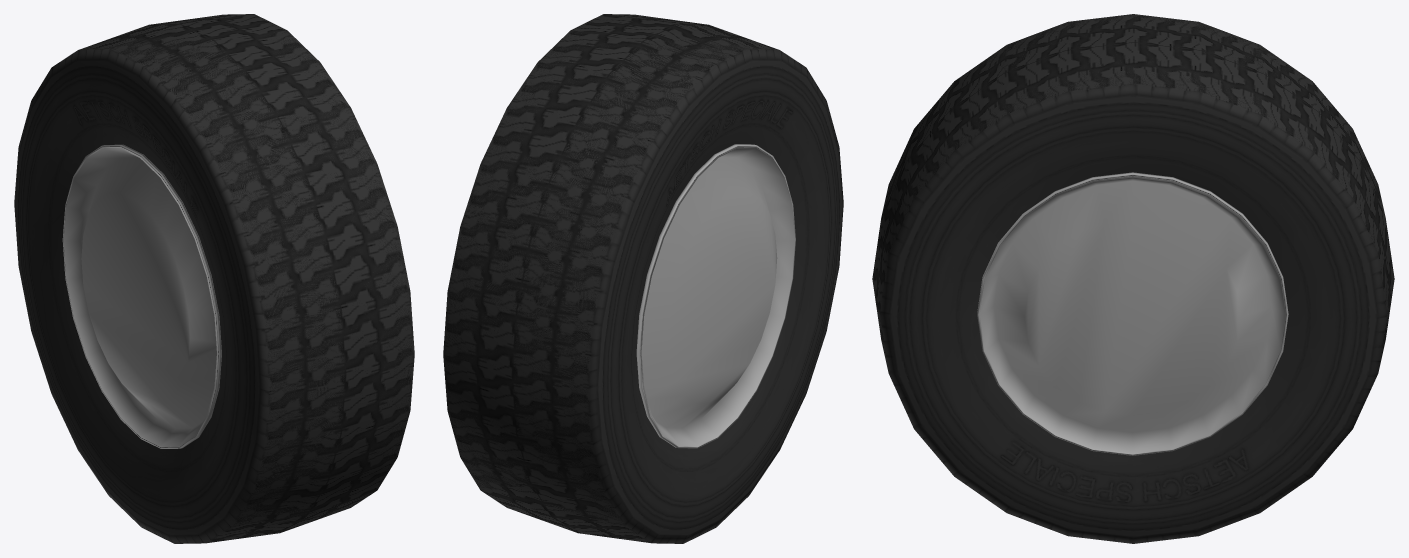
File: wheels_01.fbx
3 views of the same model, side by side, from view 1: azimuth 30°, elevation 25°; view 2: azimuth 150°, elevation 25°; view 3: azimuth 270°, elevation 25° (orthographic).
Visible parts, largest first — view 1: wheel_left, wheel_right; view 2: wheel_left, wheel_right; view 3: wheel_left, wheel_right.
Part boxes in pixels (x1,y1,x2,y2): wheel_left: (14,14,414,543); wheel_right: (63,15,413,543); wheel_left: (443,14,843,543); wheel_right: (444,15,794,541); wheel_left: (872,14,1394,543); wheel_right: (879,14,1387,455).
Size of the model in its own units: 25.98 by 71.15 by 71.15.
